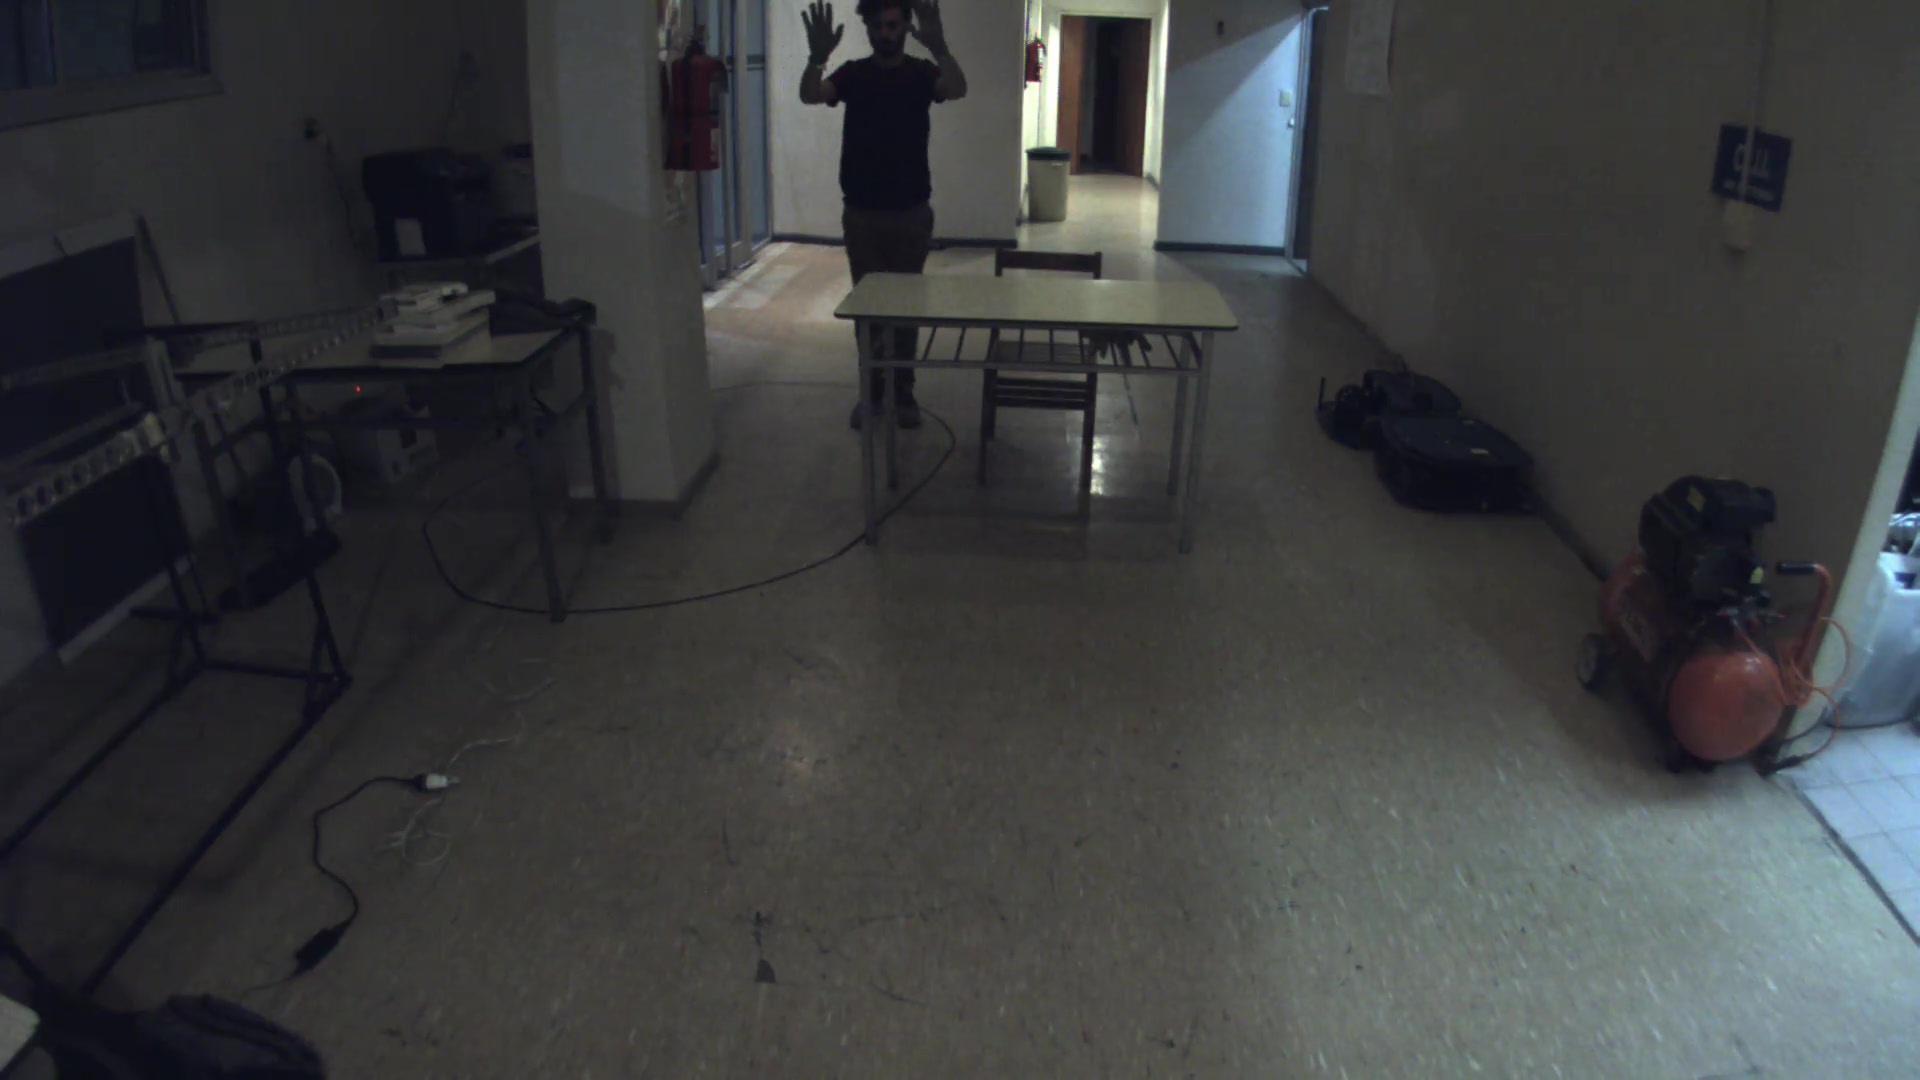hand: (885, 1, 971, 63), (794, 1, 849, 80)
